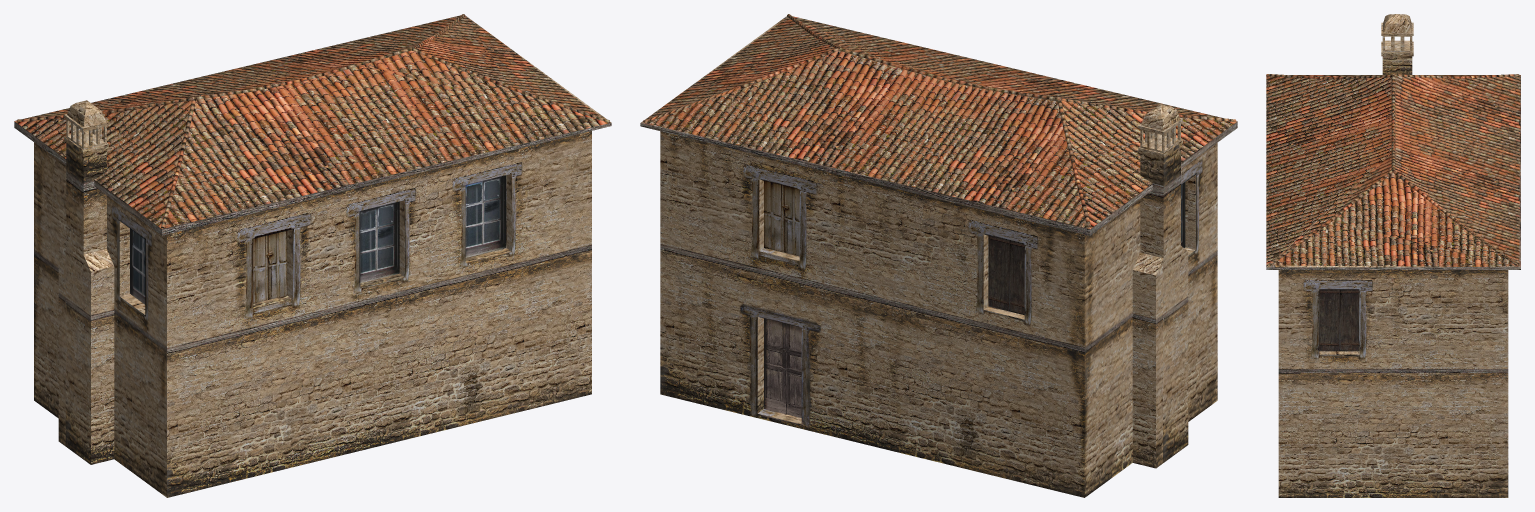
Rendered from ottoman1.fbx.
3 renders of one model, left to right at view 1: azimuth 30°, elevation 25°; view 2: azimuth 150°, elevation 25°; view 3: azimuth 270°, elevation 25°, orthographic. The views are drawn at different scales.
Parts seen in each view (by area): view 1: Group1; view 2: Group1; view 3: Group1.
Part boxes in pixels (bbox=[...]): Group1: bbox=[14, 14, 611, 497]; Group1: bbox=[640, 14, 1237, 497]; Group1: bbox=[1266, 14, 1520, 497].
Size of the model in its own units: 2775 by 1999 by 1537.
